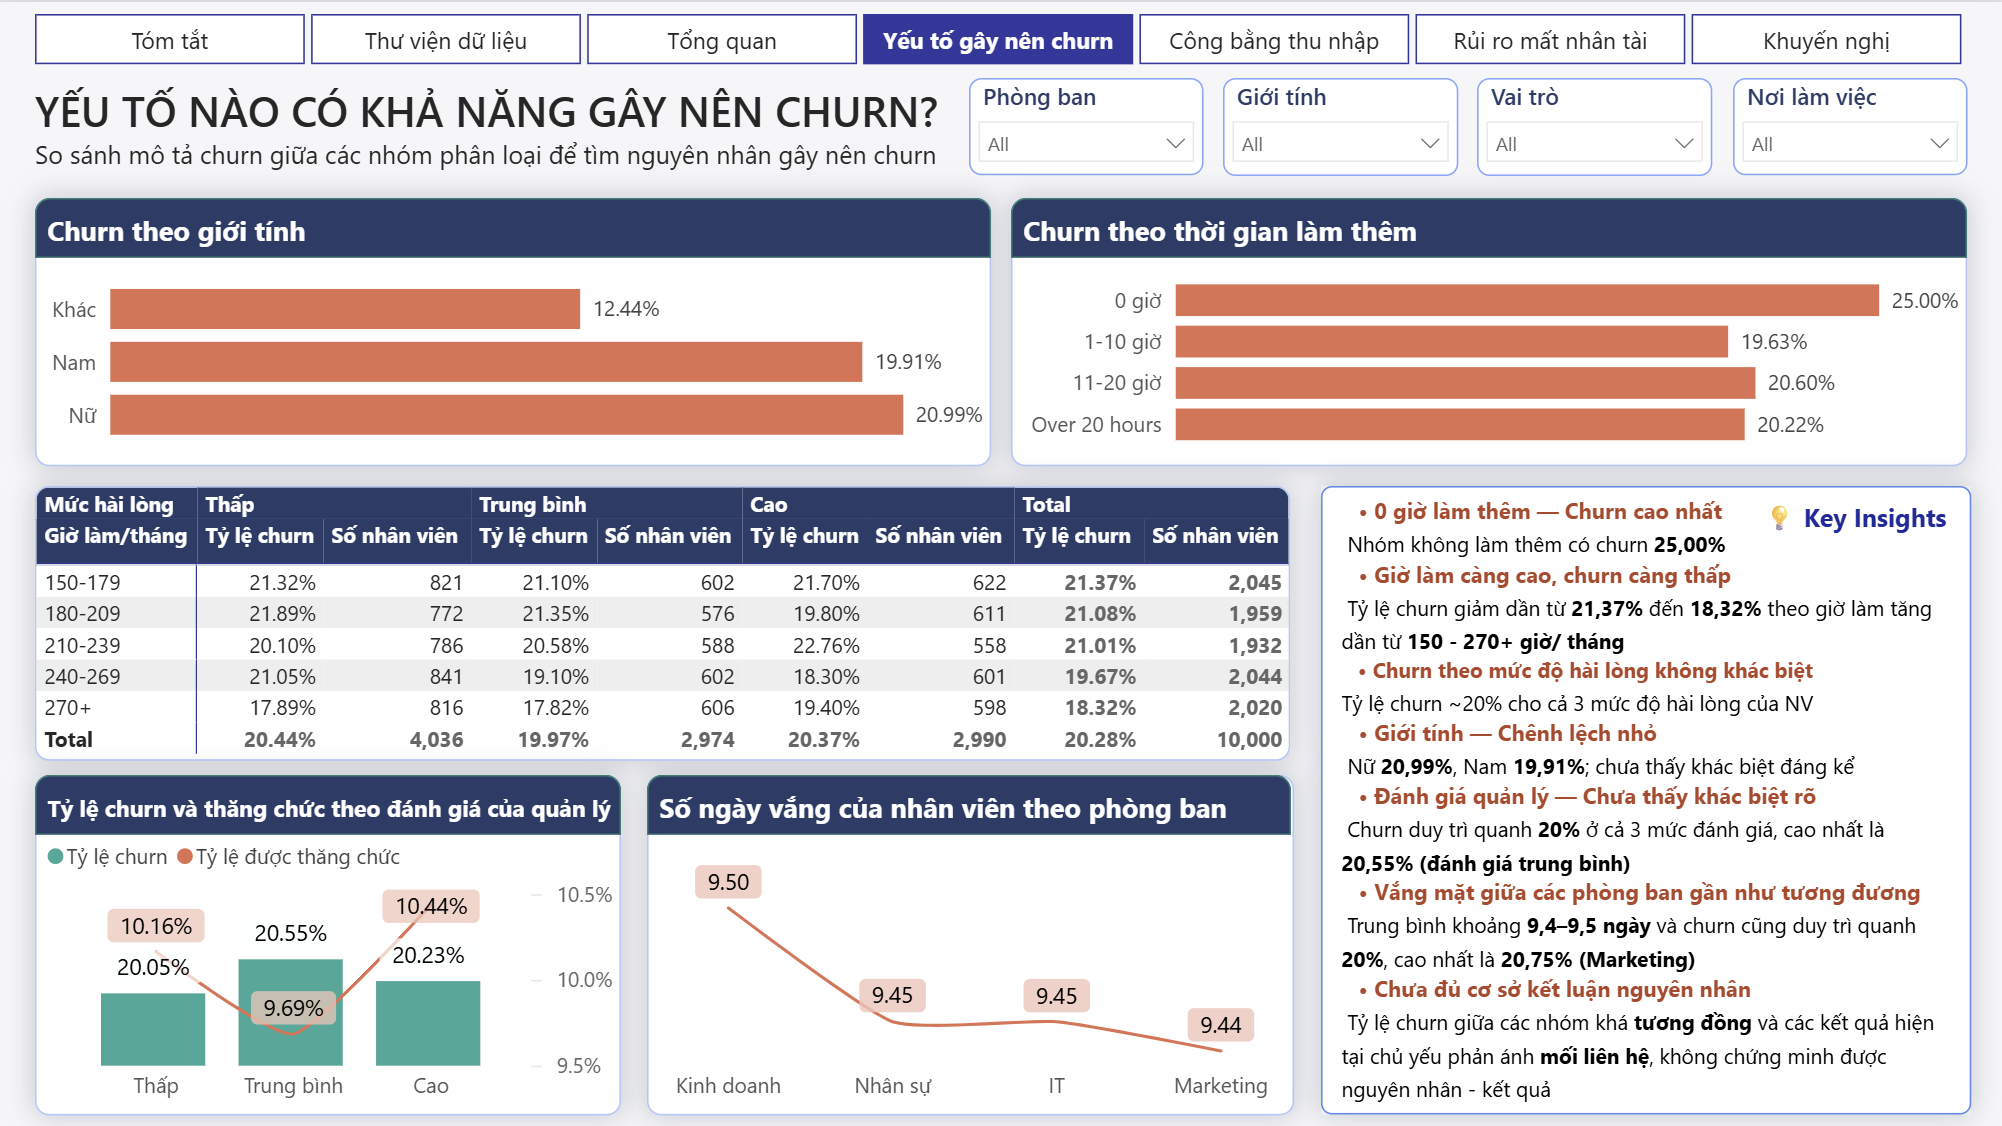

Layout of this report page (visuals, bound fields, positions):
{"tool":"powerbi","page":{"name":"Yếu tố gây nên churn","canvas":[1280,720],"ordinal":3},"visuals":[{"type":"textbox","box":[843.5,309,414.3,400],"z":0,"group":"g1"},{"type":"lineStackedColumnComboChart","title":"Số ngày vắng mặt theo phòng ban","fields":{"Category":["dim_department.department"],"Y2":["All Measures.Average Absenteeism"]},"box":[414.1,492.3,412.7,217.2],"z":0},{"type":"textbox","box":[24,48,598,72],"z":1000},{"type":"clusteredBarChart","title":"Churn theo giờ làm thêm","fields":{"Category":["mart_employee_analytics.overtime_band"],"Y":["All Measures.Churn Rate"]},"box":[646.4,124.9,609.4,170.8],"z":2000},{"type":"pivotTable","fields":{"Columns":["mart_employee_analytics.satisfaction_band"],"Rows":["mart_employee_analytics.monthly_hours_band"],"Values":["All Measures.Churn Rate","All Measures.Total Employees"]},"box":[24.2,308.5,800,174.7],"z":3000},{"type":"clusteredBarChart","title":"Churn theo giới tính","fields":{"Category":["dim_gender.gender"],"Y":["All Measures.Churn Rate"]},"box":[24.2,124.9,609.4,170.8],"z":4000},{"type":"lineClusteredColumnComboChart","title":"Đánh giá của quản lý, thăng chức và churn","fields":{"Category":["mart_employee_analytics.feedback_band"],"Y":["All Measures.Churn Rate"],"Y2":["All Measures.Promotion Rate"]},"box":[24.3,492.3,373.6,217.2],"z":5000},{"type":"pageNavigator","box":[24,8,1232,32],"z":6000},{"type":"shape","box":[24.2,124.9,609.4,38.2],"z":7000},{"type":"shape","box":[646.4,124.9,609.4,38.2],"z":8000},{"type":"shape","box":[24.2,492.1,373.5,38.2],"z":9000},{"type":"shape","box":[414.3,492.1,410.5,38.2],"z":10000},{"type":"group","id":"g1","title":"Group 1","box":[843.5,309,415.1,400],"z":11000},{"type":"slicer","fields":{"Values":["dim_work_location.work_location"]},"box":[1106,48.6,149.7,62],"z":12000},{"type":"slicer","fields":{"Values":["dim_job_role.job_role"]},"box":[943.6,48,150,62.3],"z":13000},{"type":"slicer","fields":{"Values":["dim_gender.gender"]},"box":[781.2,48,150,62.3],"z":14000},{"type":"textbox","box":[1118.3,312.2,140.2,42.1],"z":14000,"group":"g1"},{"type":"slicer","fields":{"Values":["dim_department.department"]},"box":[619.1,48.6,149.7,62],"z":15000}]}

Visuals, with their boxes in screenshot pixels (x1, y1, x2, y2), scaled from the page's 1280x720 canvas onto the 2002x1126 screenshot:
textbox: detection(1319, 483, 1967, 1109)
"Số ngày vắng mặt theo phòng ban" lineStackedColumnComboChart: detection(648, 770, 1293, 1110)
textbox: detection(38, 75, 973, 188)
"Churn theo giờ làm thêm" clusteredBarChart: detection(1011, 195, 1964, 462)
pivotTable - mart_employee_analytics.satisfaction_band x mart_employee_analytics.monthly_hours_band: detection(38, 482, 1289, 756)
"Churn theo giới tính" clusteredBarChart: detection(38, 195, 991, 462)
"Đánh giá của quản lý, thăng chức và churn" lineClusteredColumnComboChart: detection(38, 770, 622, 1110)
pageNavigator: detection(38, 13, 1964, 63)
shape: detection(38, 195, 991, 255)
shape: detection(1011, 195, 1964, 255)
shape: detection(38, 770, 622, 829)
shape: detection(648, 770, 1290, 829)
"Group 1" group: detection(1319, 483, 1969, 1109)
slicer - dim_work_location.work_location: detection(1730, 76, 1964, 173)
slicer - dim_job_role.job_role: detection(1476, 75, 1710, 172)
slicer - dim_gender.gender: detection(1222, 75, 1456, 172)
textbox: detection(1749, 488, 1968, 554)
slicer - dim_department.department: detection(968, 76, 1202, 173)
